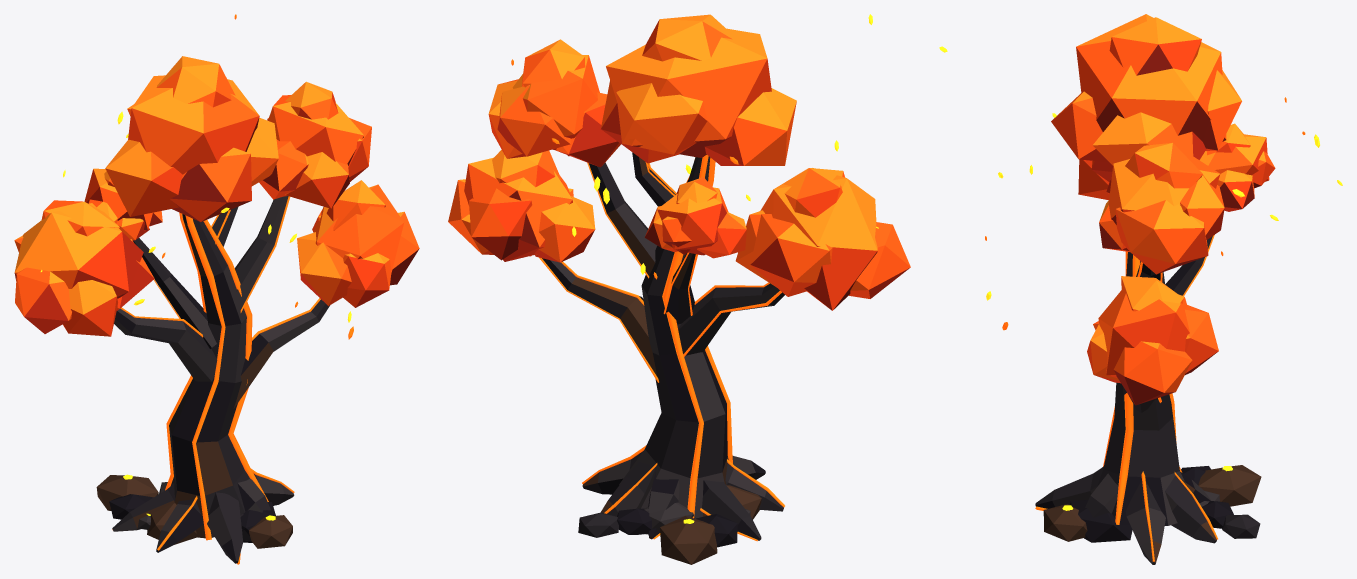
File: Lava tree-CCqs9MoC.glb
3 renders of one model, left to right at view 1: azimuth 30°, elevation 25°; view 2: azimuth 150°, elevation 25°; view 3: azimuth 270°, elevation 25°, orthographic. The views are drawn at different scales.
Visible parts, largest first — view 1: Main Trunk, Crown_0, Left Crown_0, Crown_4, Crown_1, Lower Crown_0, Right Crown_0, Left Branch, Left Crown_1, Crown_5, Lower Crown_1, Left Crown_4 (+26 smaller); view 2: Main Trunk, Crown_0, Left Crown_0, Crown_3, Crown_1, Left Crown_3, Lower Crown_0, Right Crown_0, Lower Crown_3, Crown_5, Left Branch, Right Crown_3 (+30 smaller); view 3: Crown_0, Main Trunk, Right Crown_2, Lower Crown_0, Crown_5, Lower Crown_2, Crown_2, Right Crown_0, Right Crown_5, Crown_4, Root_0, Volcanic Rock_9 (+19 smaller).
Part boxes in pixels (x1,y1,x2,y2): Main Trunk: [169, 214, 249, 538]; Crown_0: [128, 75, 259, 174]; Left Crown_0: [14, 203, 143, 298]; Crown_4: [170, 147, 251, 221]; Crown_1: [105, 139, 182, 216]; Lower Crown_0: [313, 184, 404, 272]; Right Crown_0: [268, 95, 363, 165]; Left Branch: [114, 308, 217, 381]; Left Crown_1: [15, 267, 71, 333]; Crown_5: [156, 56, 235, 107]; Lower Crown_1: [297, 232, 351, 305]; Left Crown_4: [63, 280, 117, 336]; Main Trunk: [619, 156, 728, 518]; Crown_0: [606, 28, 771, 157]; Left Crown_0: [760, 168, 877, 310]; Crown_3: [616, 83, 707, 154]; Crown_1: [705, 88, 796, 165]; Left Crown_3: [750, 214, 832, 296]; Lower Crown_0: [464, 157, 572, 261]; Right Crown_0: [512, 55, 599, 149]; Lower Crown_3: [469, 188, 532, 260]; Crown_5: [642, 14, 732, 61]; Left Branch: [678, 283, 784, 355]; Right Crown_3: [497, 85, 570, 156]; Crown_0: [1076, 14, 1226, 141]; Main Trunk: [1097, 252, 1184, 525]; Right Crown_2: [1115, 200, 1208, 274]; Lower Crown_0: [1098, 290, 1189, 377]; Crown_5: [1109, 17, 1201, 75]; Lower Crown_2: [1113, 341, 1192, 405]; Crown_2: [1092, 112, 1206, 165]; Right Crown_0: [1108, 145, 1220, 224]; Right Crown_5: [1125, 142, 1202, 188]; Crown_4: [1051, 91, 1108, 162]; Root_0: [1125, 480, 1165, 564]; Volcanic Rock_9: [1198, 465, 1261, 506].
Size of the model in its own units: 5.55 by 6.12 by 4.46.
